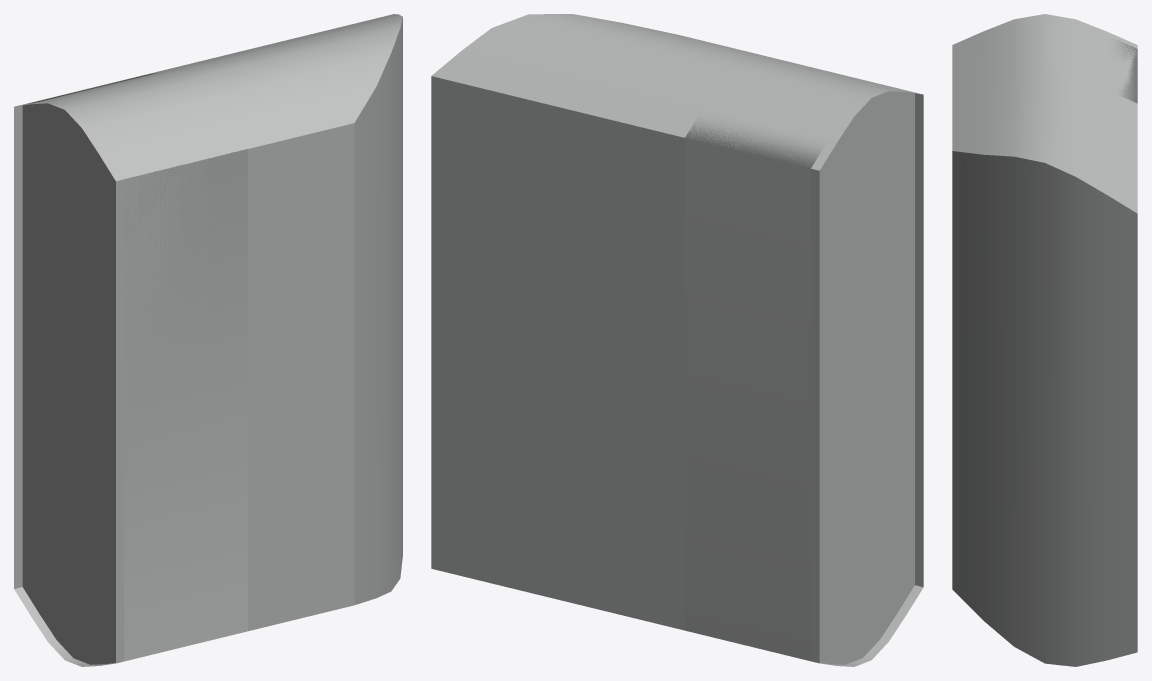
File: DoorLatch.fbx
The picture shows the model from 3 angles, left to right: view 1: azimuth 30°, elevation 25°; view 2: azimuth 150°, elevation 25°; view 3: azimuth 270°, elevation 25°; orthographic projection. The views are drawn at different scales.
Parts seen in each view (by area): view 1: Door_Latch; view 2: Door_Latch; view 3: Door_Latch.
Part boxes in pixels (x1,y1,x2,y2): Door_Latch: (14,14,402,666); Door_Latch: (431,14,923,666); Door_Latch: (952,14,1137,666).
Bounding box in the file's own units: 3.59 × 4.97 × 1.67.
1 material, 1 textured.
